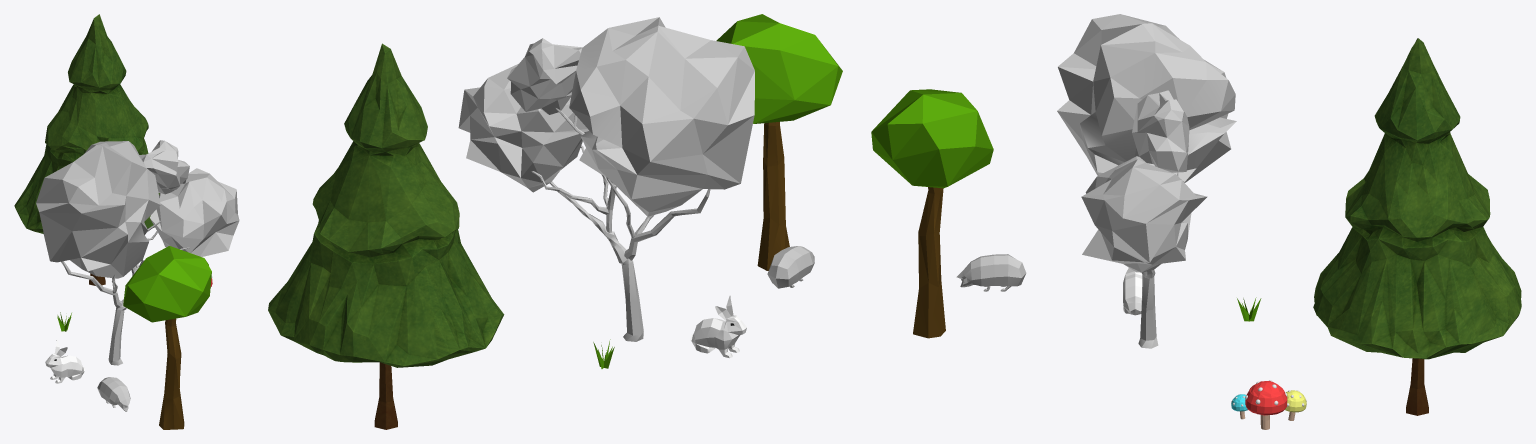
The model's file is forest.dae.
3 renders of one model, left to right at view 1: azimuth 30°, elevation 25°; view 2: azimuth 150°, elevation 25°; view 3: azimuth 270°, elevation 25°, orthographic. The views are drawn at different scales.
Visible parts, largest first — view 1: BloodwoodTree, PineTree, Feuilles007_001, Rabbit, Hedgehog; view 2: BloodwoodTree, PineTree, Feuilles007_001, Rabbit, Hedgehog; view 3: PineTree, BloodwoodTree, Feuilles007_001, Mushrooms, Hedgehog, Rabbit.
Part boxes in pixels (x1,y1,x2,y2): BloodwoodTree: [36, 140, 239, 365]; PineTree: [14, 14, 159, 285]; Feuilles007_001: [123, 246, 211, 429]; Rabbit: [45, 340, 84, 383]; Hedgehog: [97, 377, 130, 411]; BloodwoodTree: [458, 17, 754, 341]; PineTree: [268, 43, 504, 429]; Feuilles007_001: [716, 14, 842, 270]; Rabbit: [690, 295, 746, 358]; Hedgehog: [767, 246, 814, 288]; PineTree: [1313, 38, 1521, 415]; BloodwoodTree: [1057, 14, 1236, 348]; Feuilles007_001: [871, 89, 993, 338]; Mushrooms: [1231, 380, 1306, 429]; Hedgehog: [956, 254, 1026, 291]; Rabbit: [1123, 268, 1142, 315].
Bounding box in the file's own units: 12.73 × 22.38 × 14.19.
